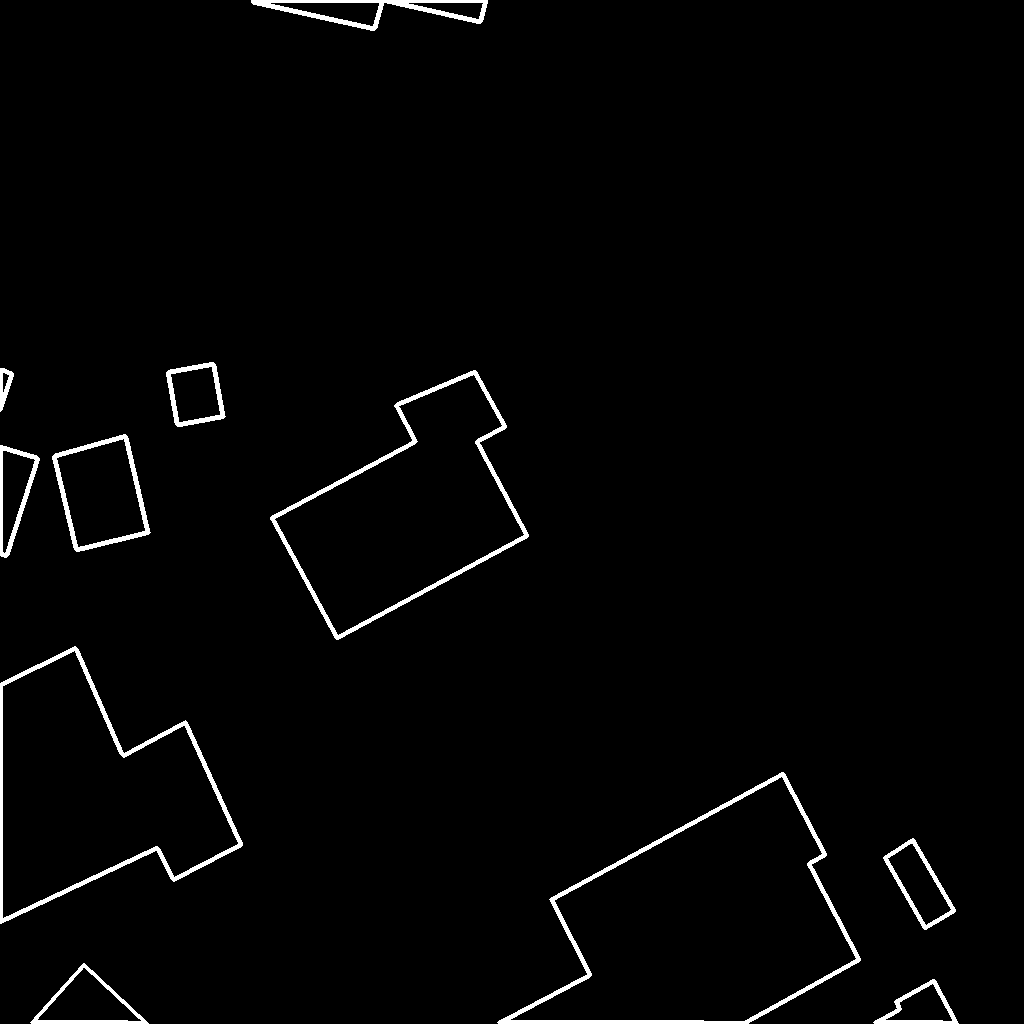building: (499, 774, 860, 1024), (272, 372, 528, 639), (0, 648, 242, 923), (54, 436, 149, 551), (0, 370, 39, 557), (253, 0, 487, 30), (32, 965, 148, 1024), (885, 840, 955, 929), (875, 981, 958, 1024), (168, 364, 224, 426)
